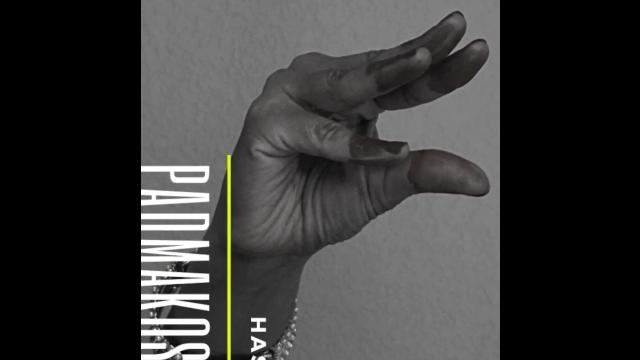padamkosh: (197, 0, 494, 296)
